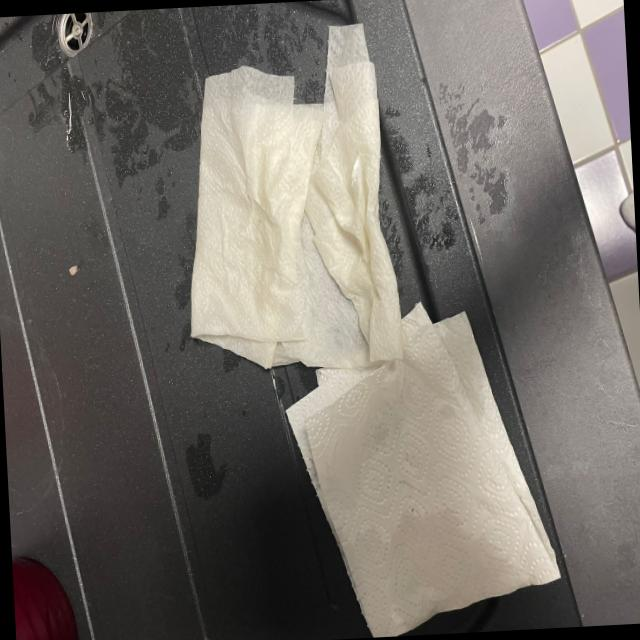organic waste: (279, 296, 570, 640), (169, 17, 395, 384)
